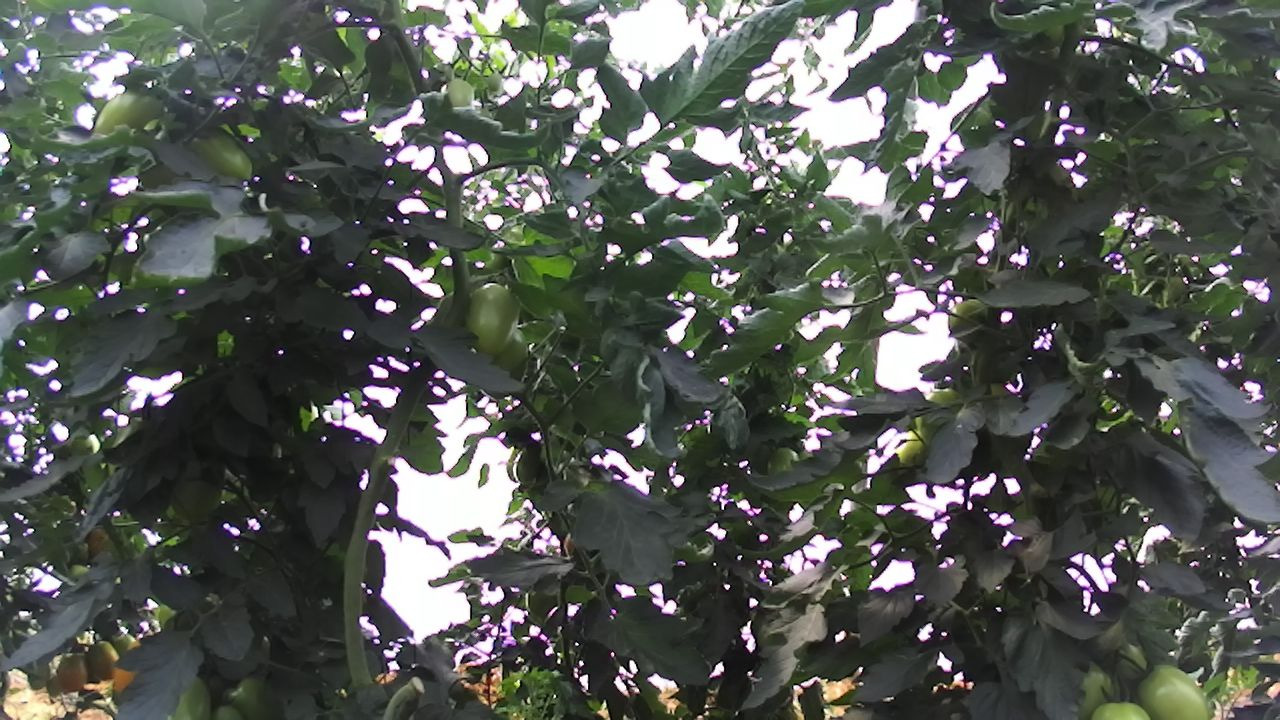tomato: (1134, 656, 1216, 720), (461, 276, 522, 358)
